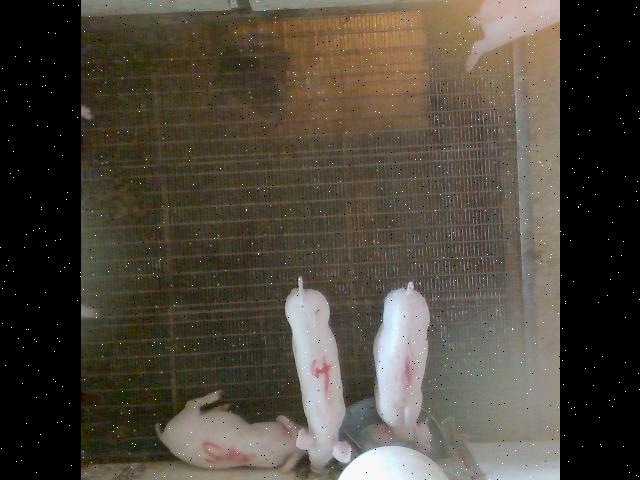pig-1: (371, 282, 430, 452)
pig-4: (284, 278, 351, 471)
pig-5: (155, 390, 303, 471)
